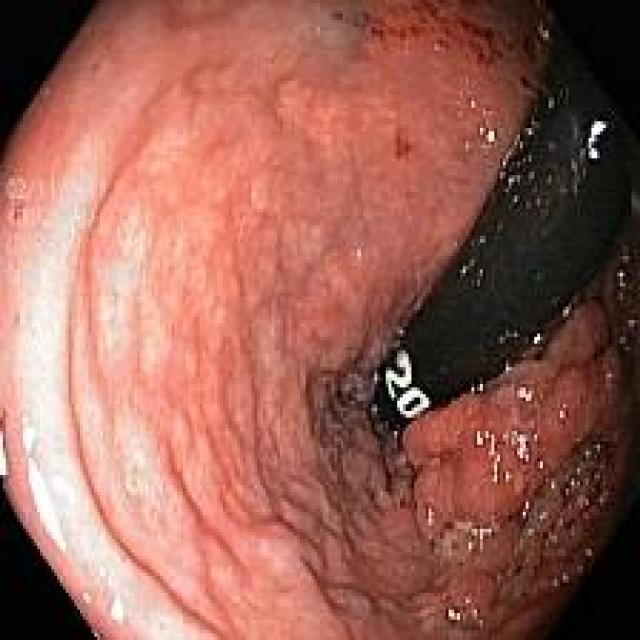Polyps: (396, 304, 634, 640)
